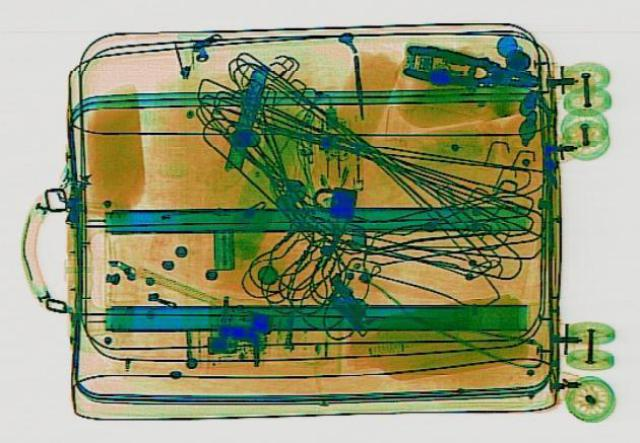Pliers: (392, 40, 546, 96)
